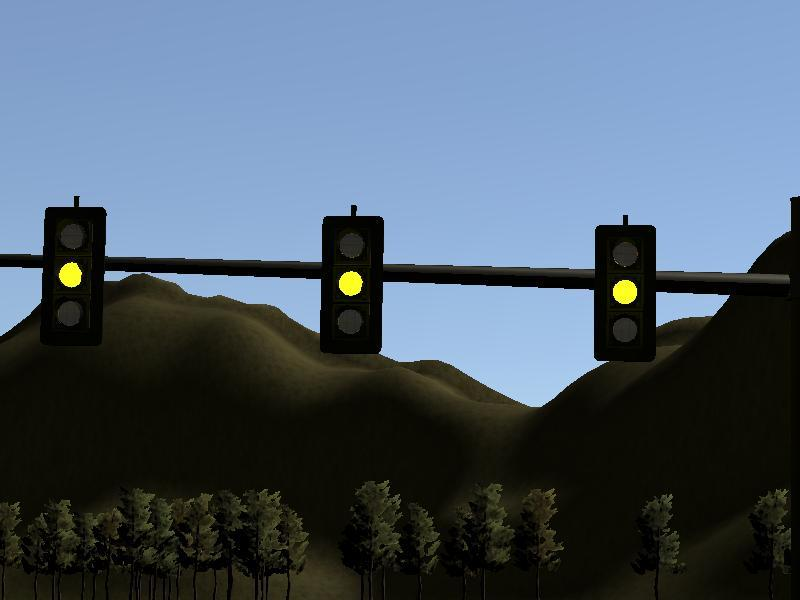Yellow: (42, 206, 105, 346), (594, 225, 657, 361), (321, 217, 383, 353)
